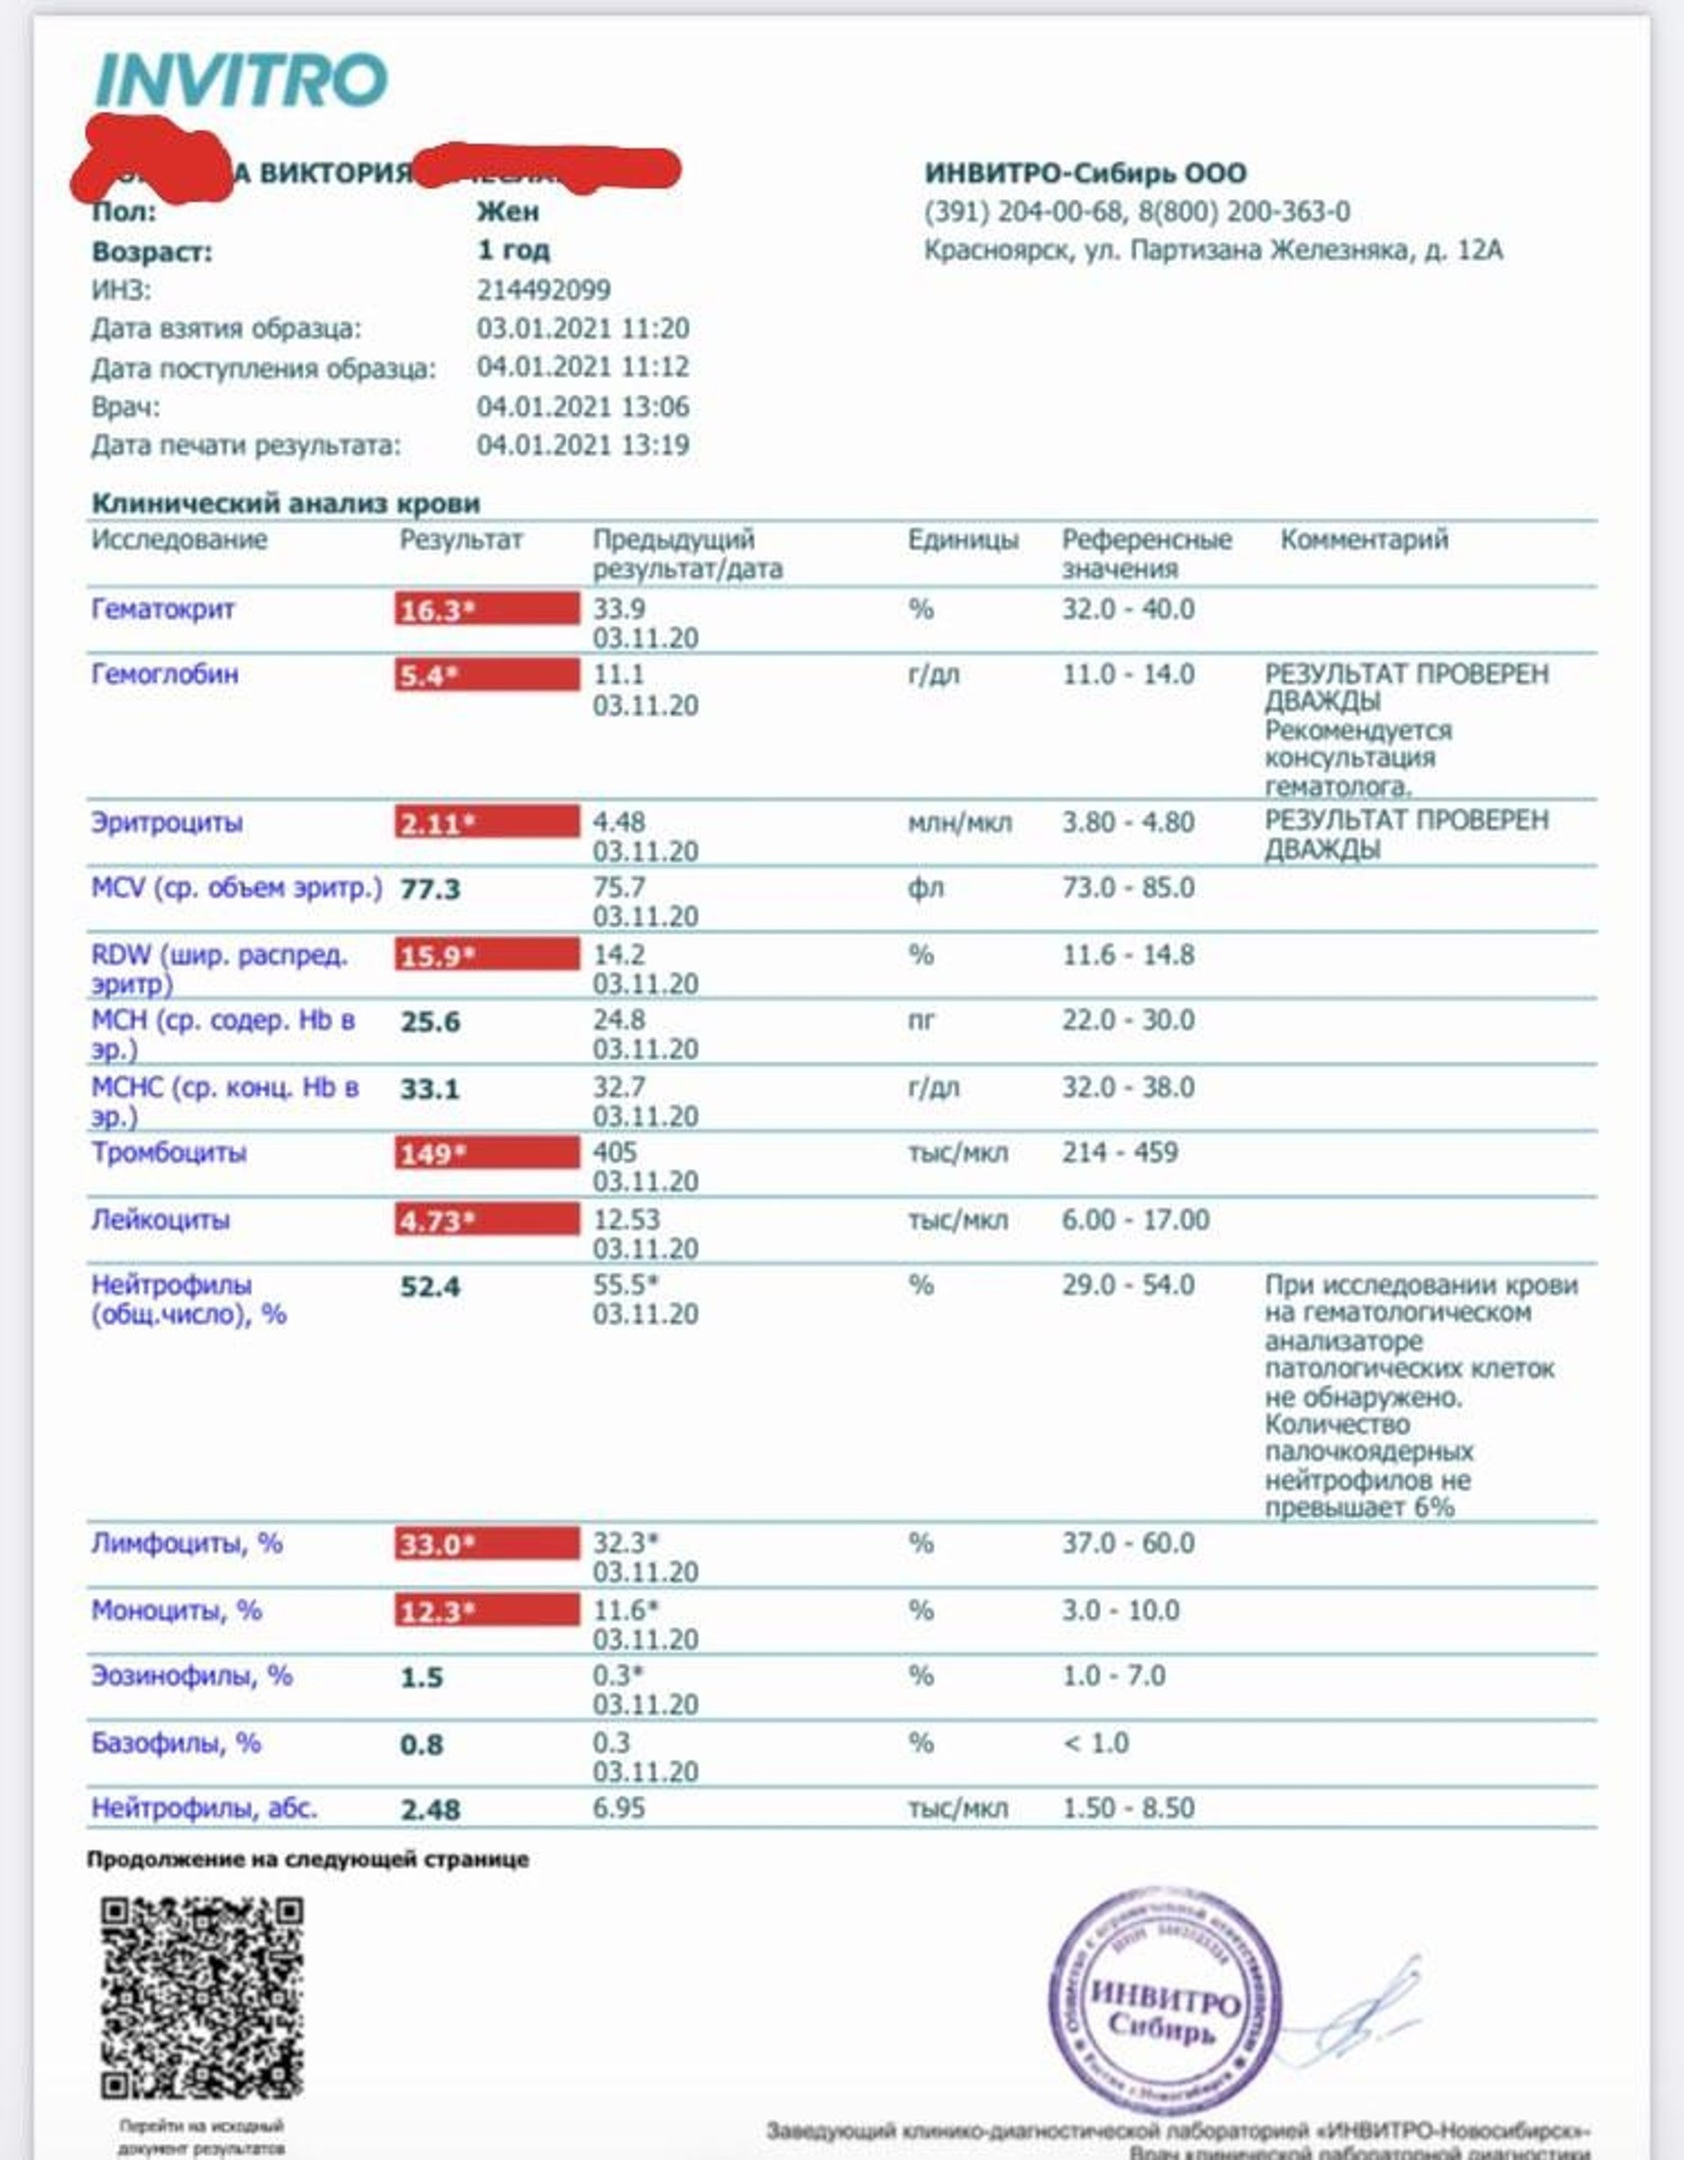column: (1263, 521, 1579, 1827), (89, 521, 384, 1827), (591, 521, 783, 1827), (1060, 521, 1234, 1827), (400, 521, 526, 1827), (908, 521, 1020, 1827)
